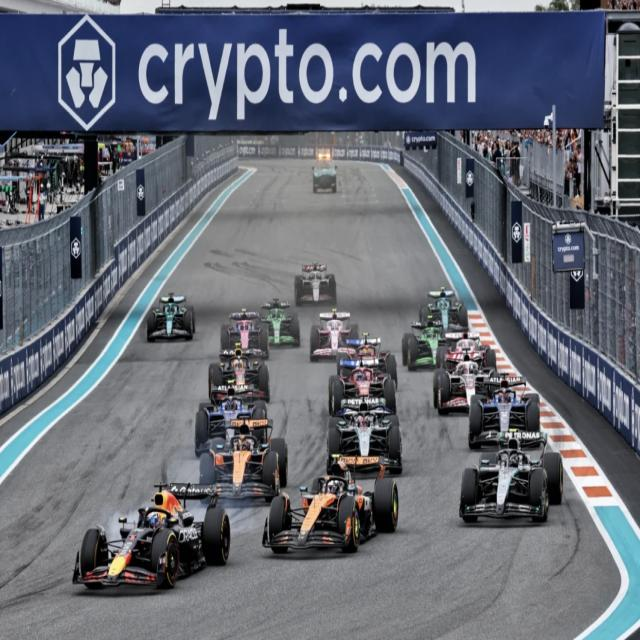Alpine: (220, 309, 269, 358)
Aston Martin: (147, 292, 196, 345), (419, 286, 468, 334)
Ferrari: (329, 358, 397, 412), (338, 331, 396, 385)
Haas: (433, 347, 500, 416), (295, 261, 336, 307)
Kick Sauber: (402, 314, 451, 372), (254, 297, 300, 349)
McLaren: (262, 453, 399, 555), (199, 418, 288, 502)
Mercedes: (459, 426, 564, 526), (327, 392, 402, 478)
Racing Bulls: (436, 331, 497, 378), (310, 308, 360, 364)
Red Bull: (72, 480, 232, 593), (208, 343, 270, 404)
Williams: (469, 370, 541, 447), (195, 382, 268, 457)
